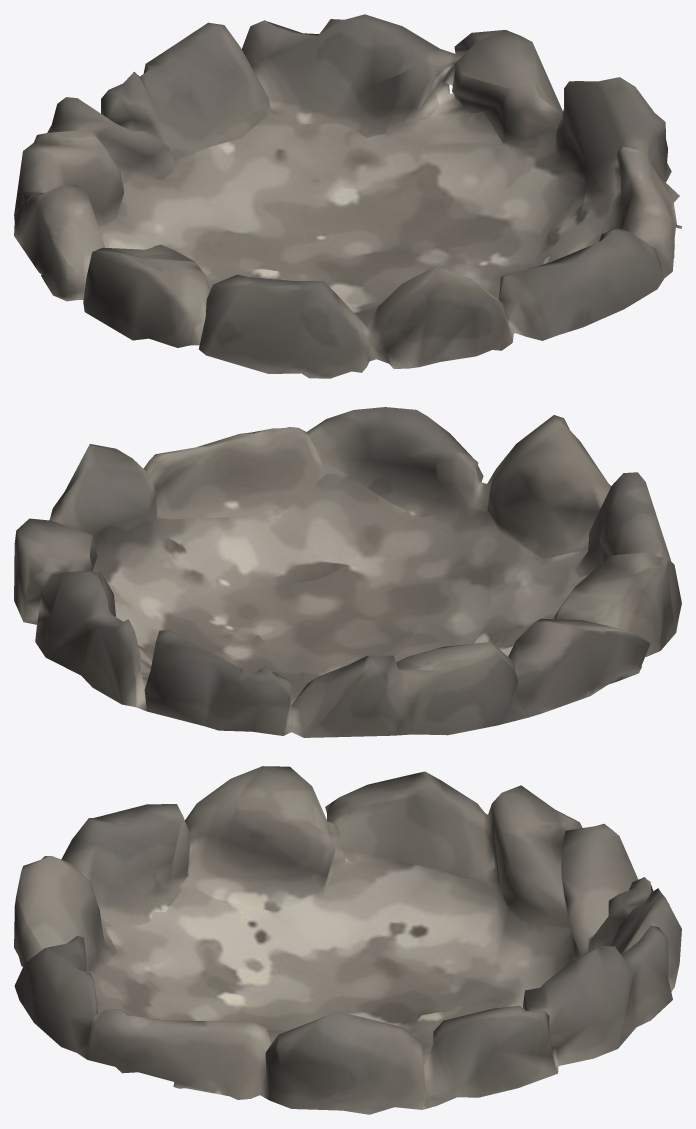
Rendered from fogueira.glb.
3 renders of one model, top to bottom at view 1: azimuth 30°, elevation 25°; view 2: azimuth 150°, elevation 25°; view 3: azimuth 270°, elevation 25°, orthographic.
Parts seen in each view (by area): view 1: stone_fire_pit; view 2: stone_fire_pit; view 3: stone_fire_pit.
Part boxes in pixels (x1,y1,x2,y2): stone_fire_pit: [14, 14, 681, 378]; stone_fire_pit: [14, 407, 681, 737]; stone_fire_pit: [14, 766, 681, 1114].
Size of the model in its own units: 1.45 by 0.3883 by 1.43.
1 material, 1 textured.
